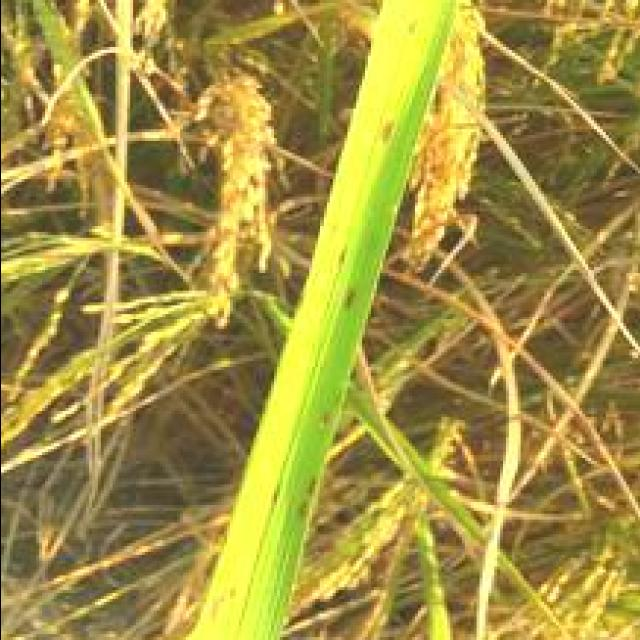Brown_Spot: (264, 470, 326, 534), (202, 576, 240, 628), (396, 6, 428, 44), (382, 118, 402, 162), (344, 291, 364, 323)
